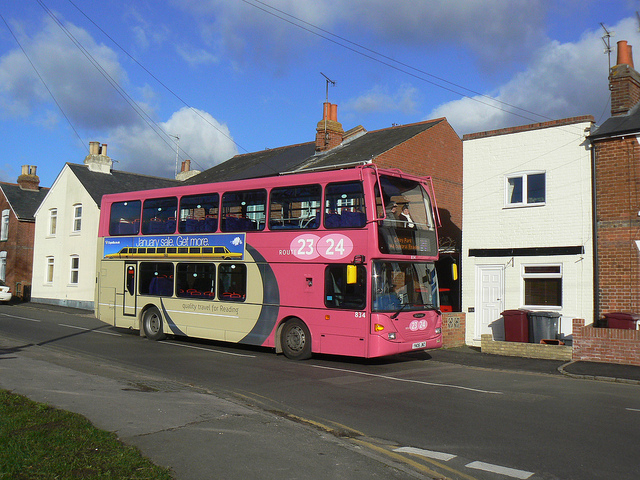Bus: (97, 167, 447, 361)
